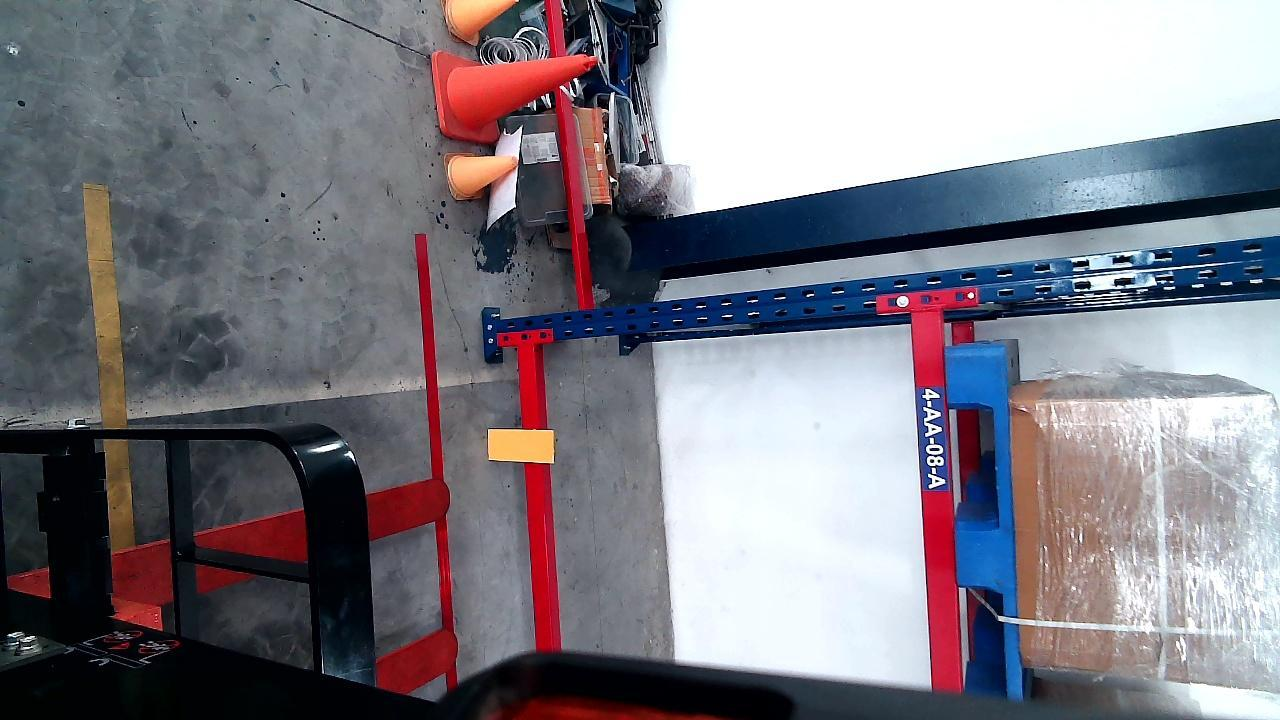red_line: (411, 235, 458, 627)
yellow_line: (86, 176, 134, 548)
